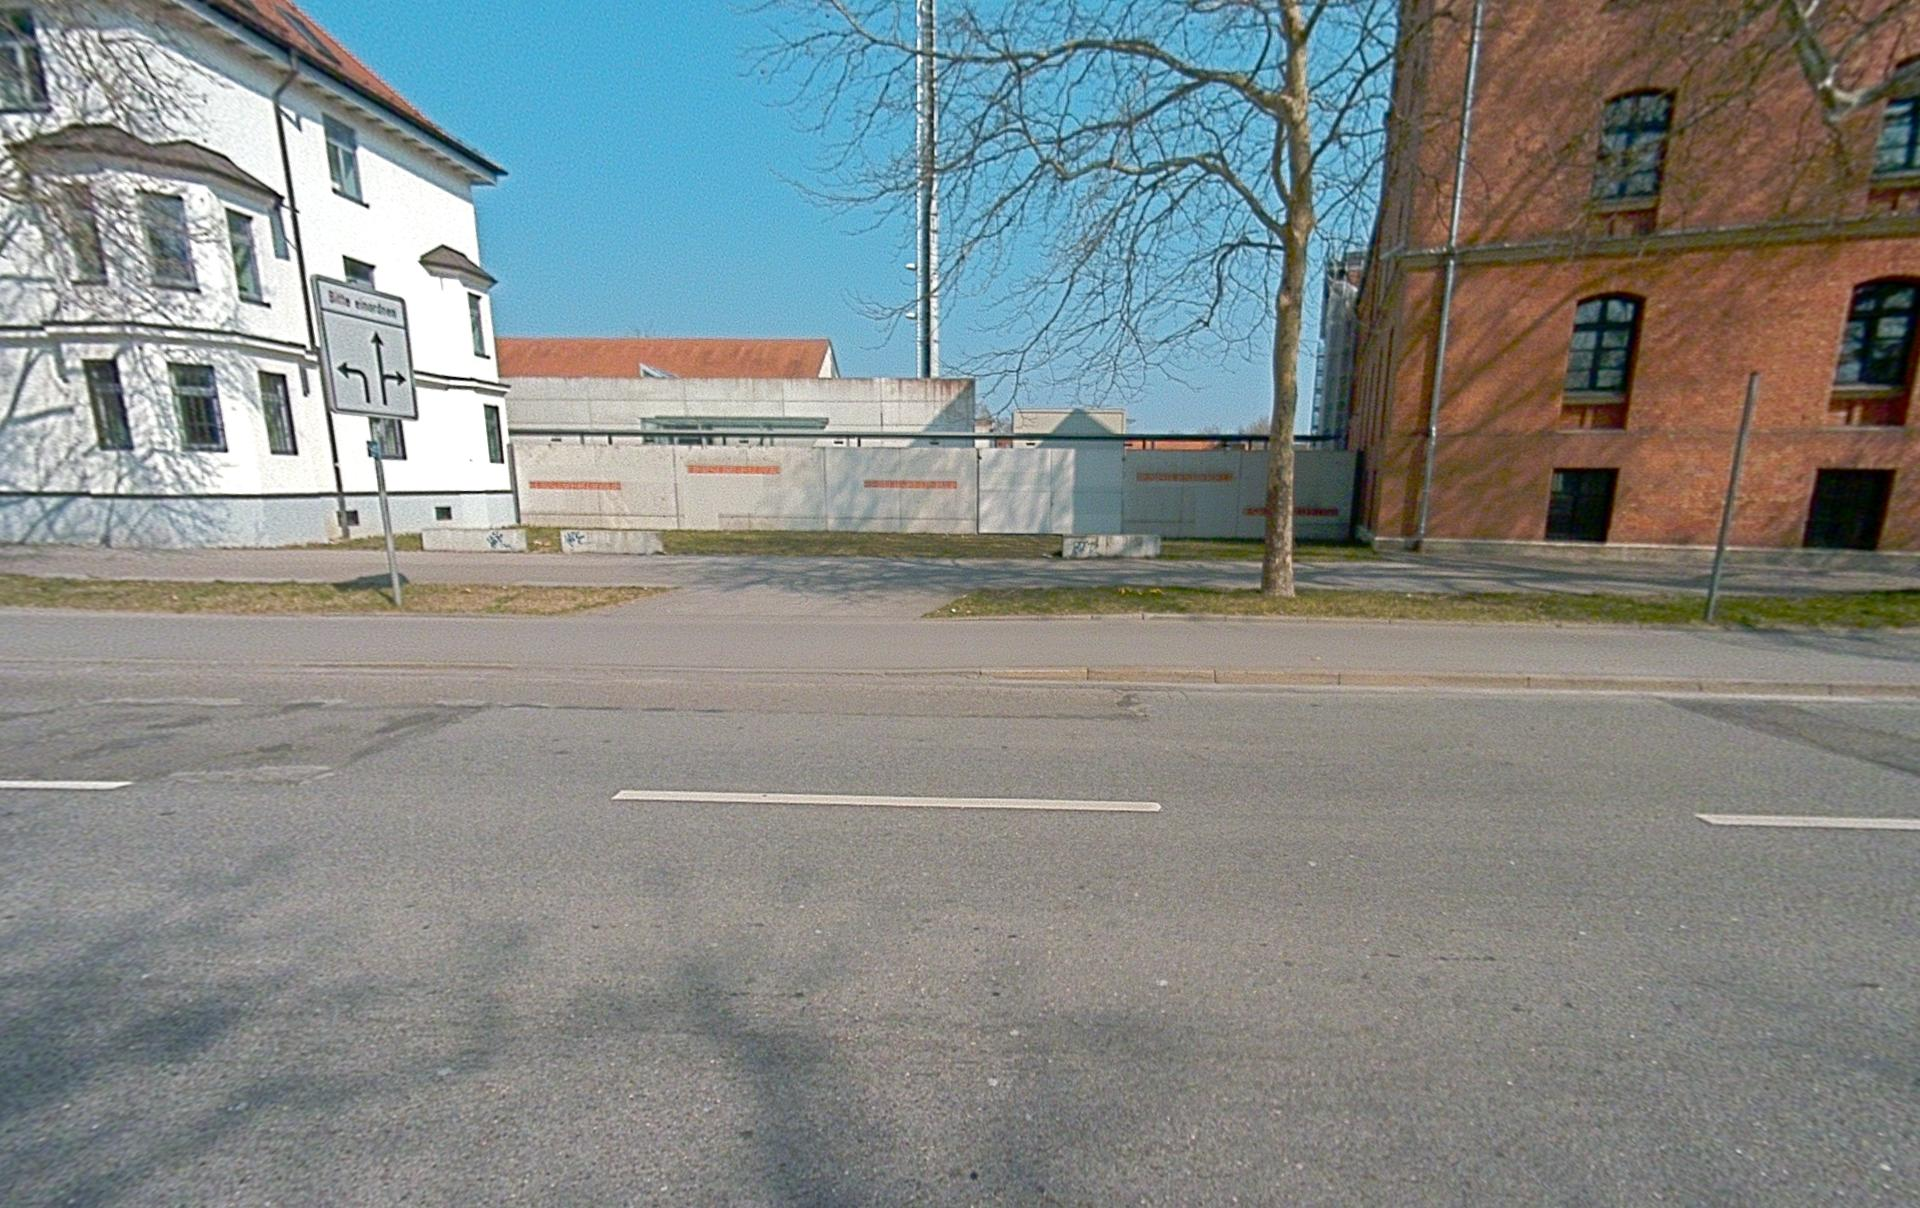traffic sign: (310, 274, 419, 422)
